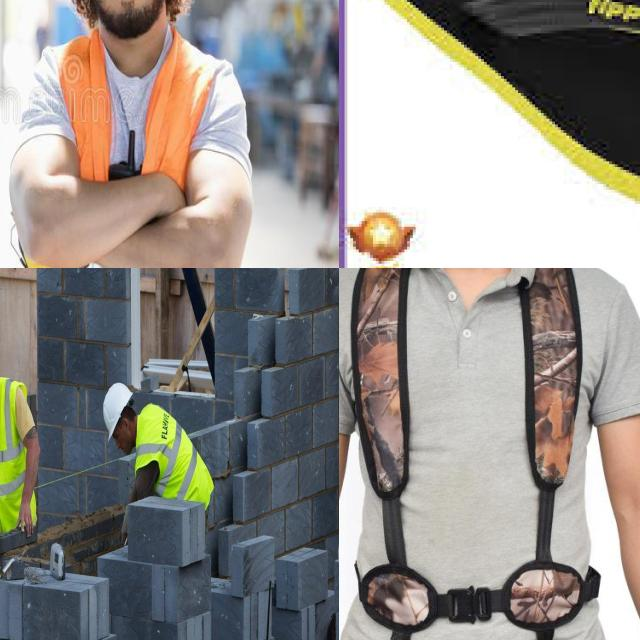Harness: (339, 268, 614, 640)
Sandals: (344, 0, 640, 268)
face_nomask: (94, 0, 169, 29)
hand_noglove: (17, 495, 39, 540)
head_helmet: (102, 381, 134, 442)
person: (17, 0, 246, 268), (102, 378, 215, 538), (0, 346, 42, 627)
vest: (29, 21, 222, 268), (136, 405, 212, 507), (0, 377, 39, 525)
